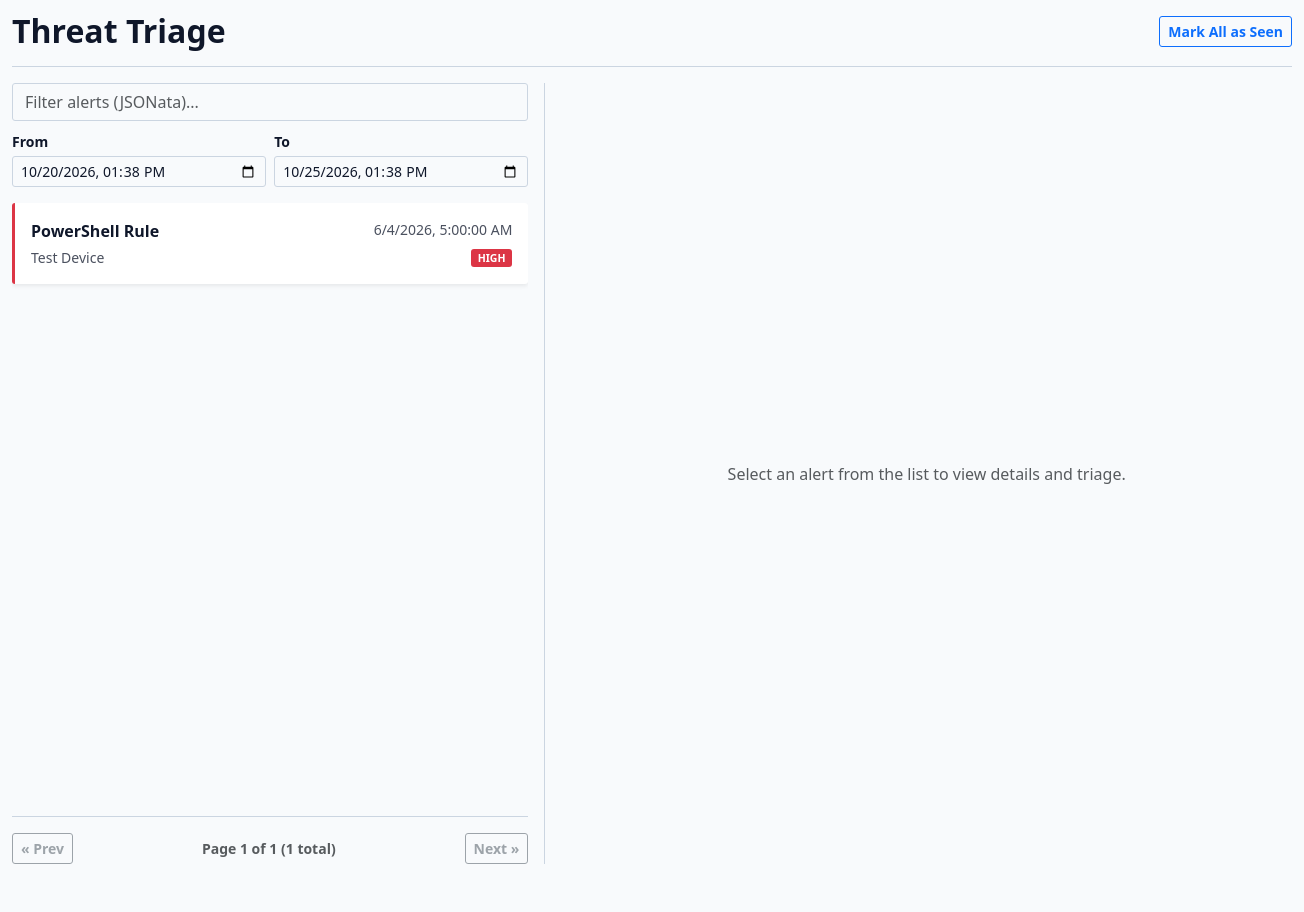
Test: Alerts Page › Rustinel New Alert Fields UI › renders PowerShell scripting evidence when present
Click the text "PowerShell Rule".
click(95, 231)  # box [31,219,159,243]
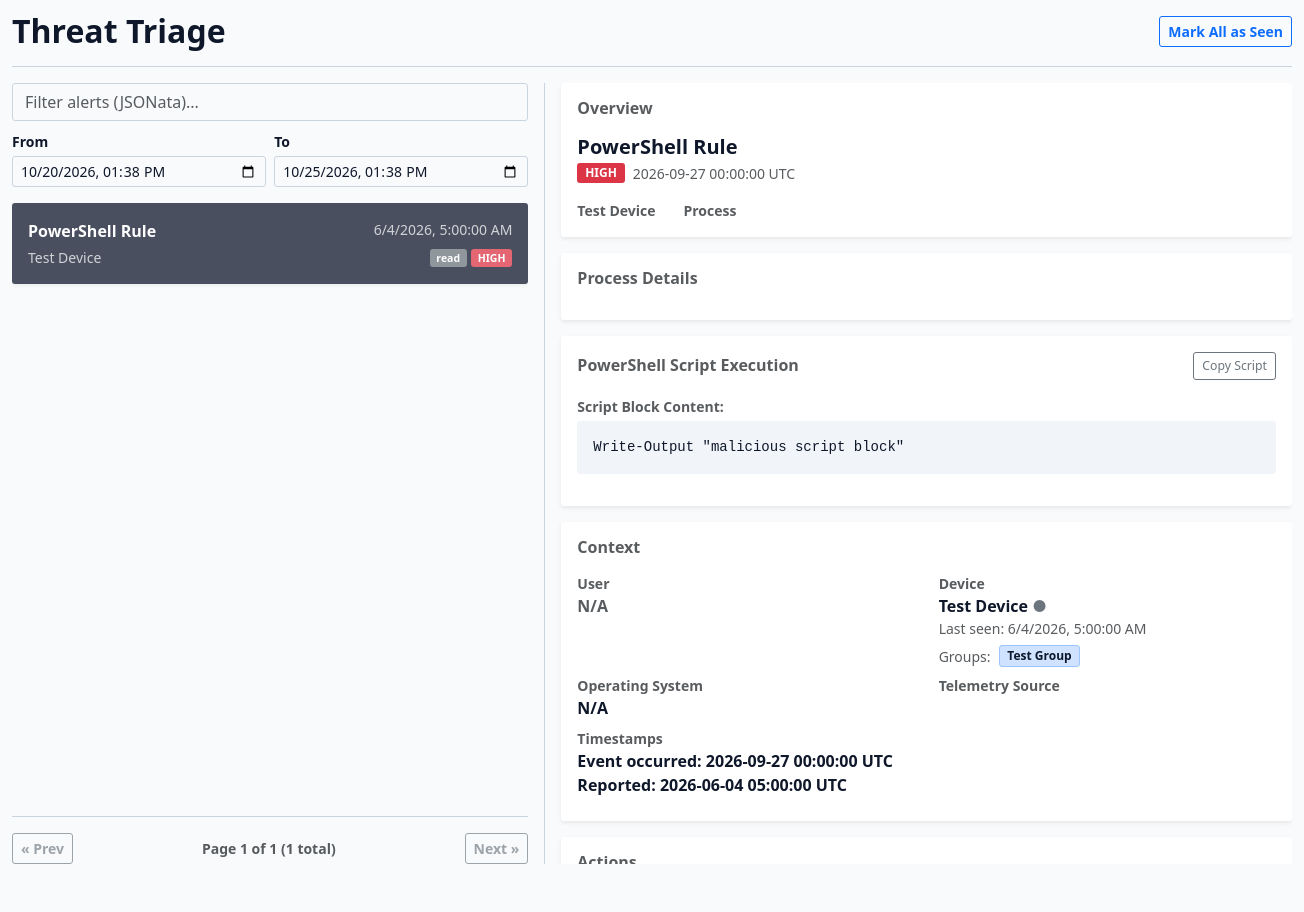
Expected: the heading "PowerShell Script Execution" is shown, [577,356,799,376]
Expected: the text "Write-Output \"malicious script block\"" is shown, [577,421,1276,474]
